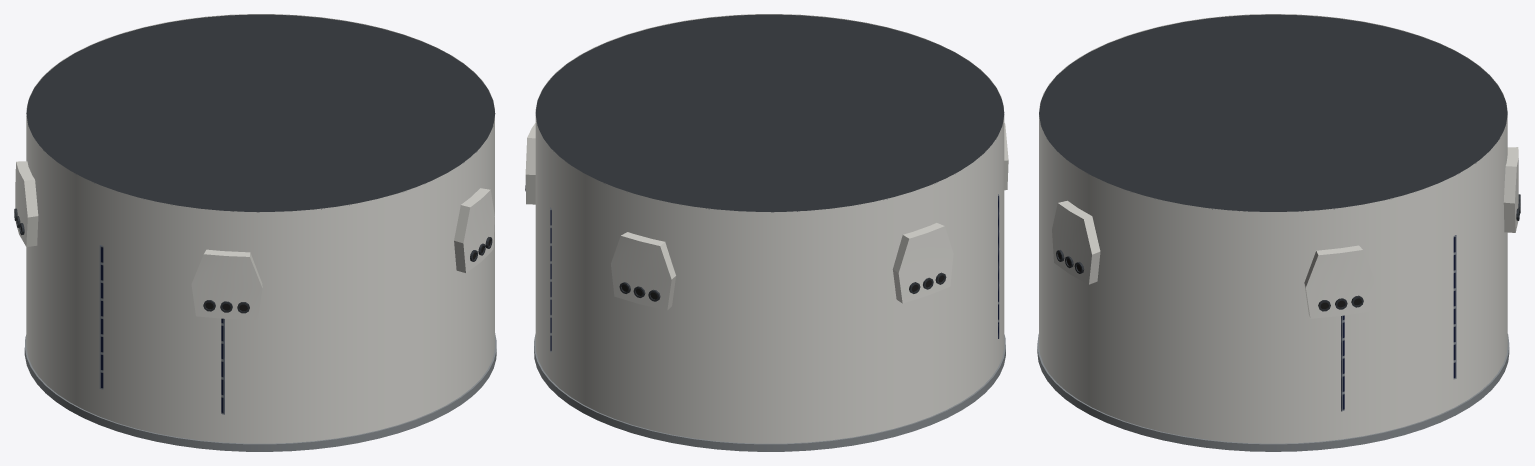
File: starliner_sm.glb
The picture shows the model from 3 angles, left to right: view 1: azimuth 30°, elevation 25°; view 2: azimuth 150°, elevation 25°; view 3: azimuth 270°, elevation 25°; orthographic projection.
Parts seen in each view (by area): view 1: body, slot_power; view 2: body, slot_power; view 3: body, slot_power.
Part boxes in pixels (x1,y1,x2,y2): body: [14, 14, 496, 451]; slot_power: [99, 245, 224, 414]; body: [525, 14, 1008, 451]; slot_power: [550, 194, 999, 352]; body: [1037, 14, 1520, 451]; slot_power: [1341, 235, 1456, 411].
Size of the model in its own units: 3.48 by 1.91 by 3.48.
12 materials, 1 textured.
